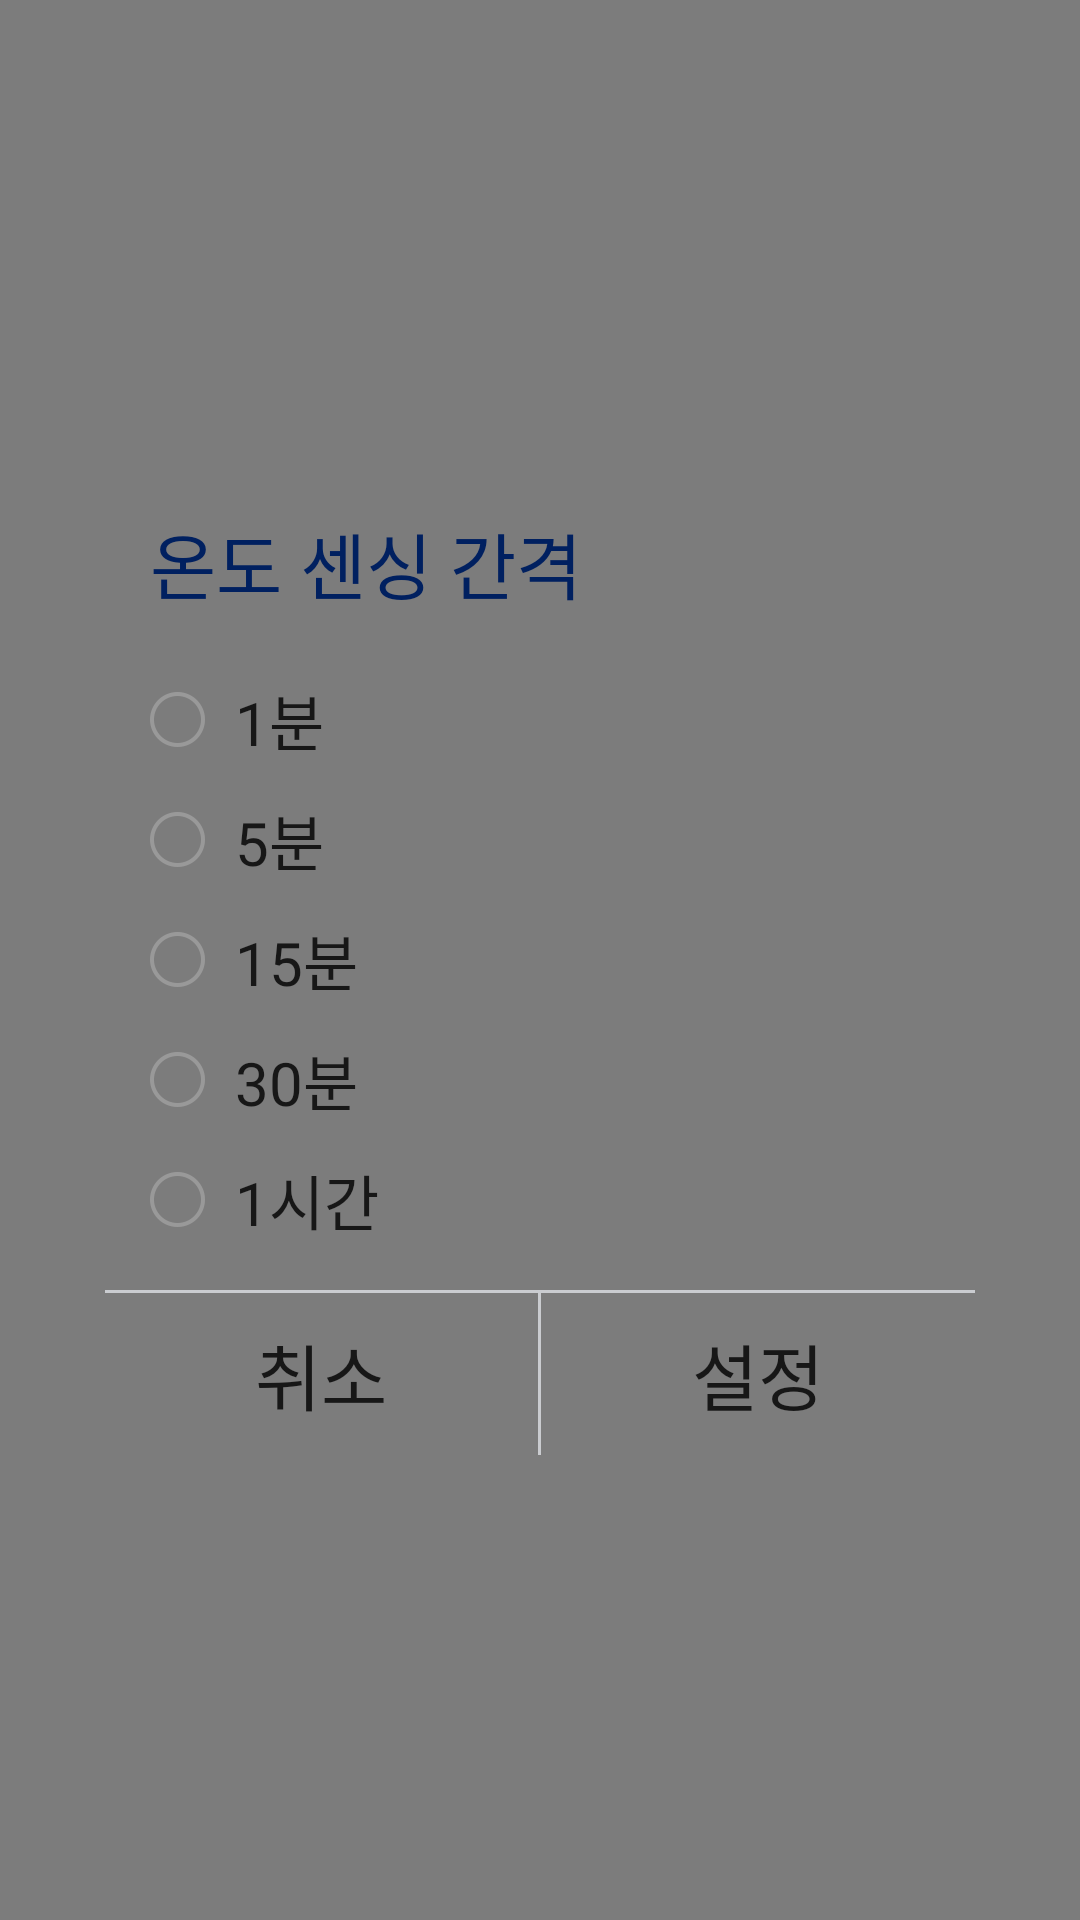

Named icons in this screenshot (1080×1920) and their centers, point (x, y):
option off: point (177, 719), point (177, 839), point (177, 959), point (177, 1079), point (177, 1199)
